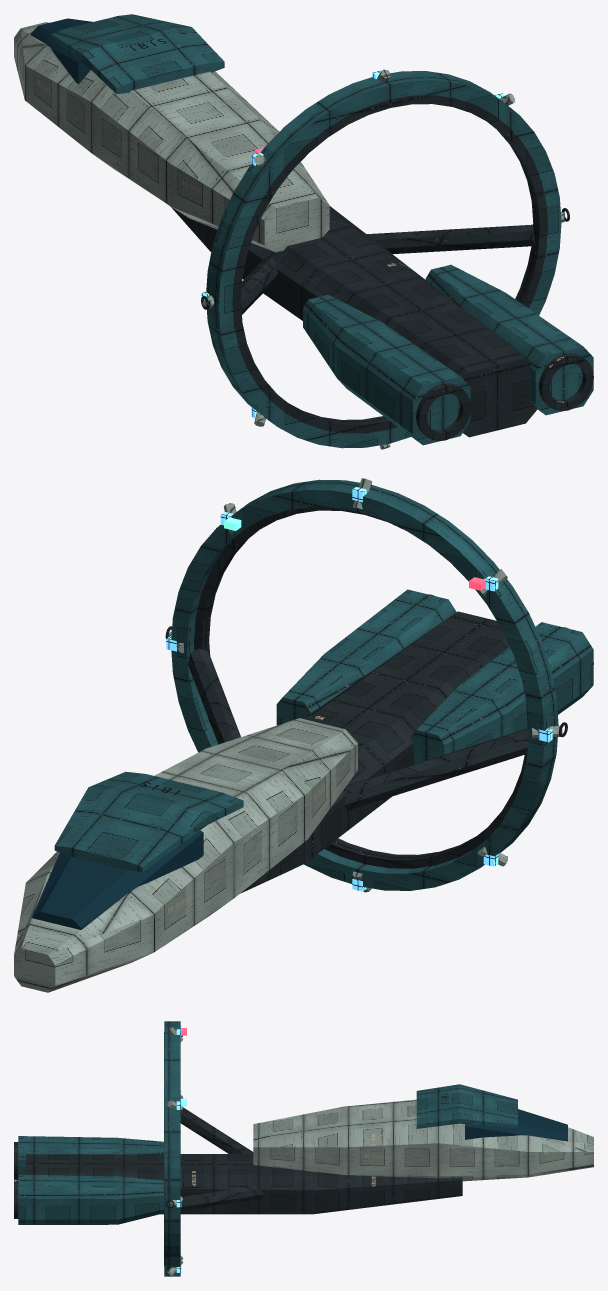
Rendered from ship_ibis.glb.
3 views of the same model, one above another, from view 1: azimuth 30°, elevation 25°; view 2: azimuth 150°, elevation 25°; view 3: azimuth 270°, elevation 25° (orthographic). The views are drawn at different scales.
Parts seen in each view (by area): view 1: Teal, Frame, Cream, Glass; view 2: Teal, Cream, Frame, Glass, Emitter; view 3: Cream, Teal, Frame, Glass.
Part boxes in pixels (x1,y1,x2,y2): Teal: (51, 14, 593, 448); Frame: (170, 95, 593, 441); Cream: (14, 22, 564, 449); Glass: (30, 18, 92, 83); Teal: (54, 479, 593, 890); Cream: (14, 478, 562, 992); Frame: (165, 507, 593, 893); Glass: (32, 830, 203, 929); Emitter: (166, 487, 552, 891); Cream: (167, 1026, 593, 1275); Teal: (18, 1021, 517, 1276); Frame: (14, 1032, 462, 1265); Glass: (465, 1109, 567, 1141).
Bounding box in the file's own units: 9.39 × 9.39 × 20.18.
7 materials, 5 textured.
